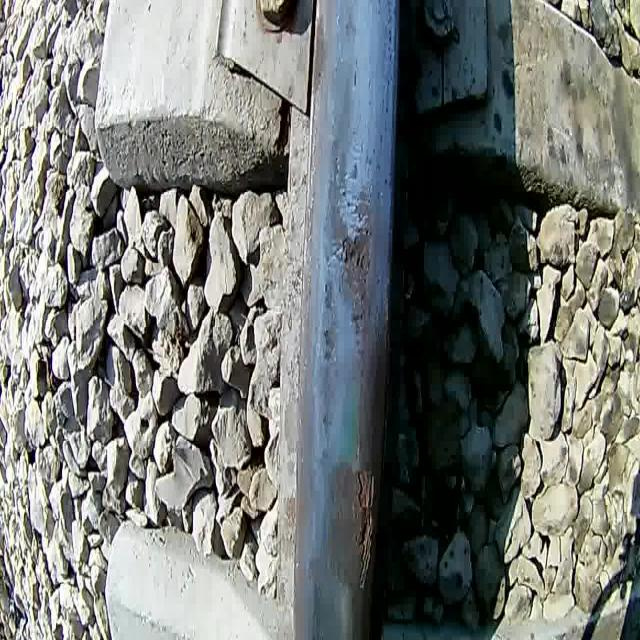Spallings: (352, 460, 377, 597), (339, 223, 375, 278)
Squats: (314, 138, 378, 377), (322, 450, 380, 605)
